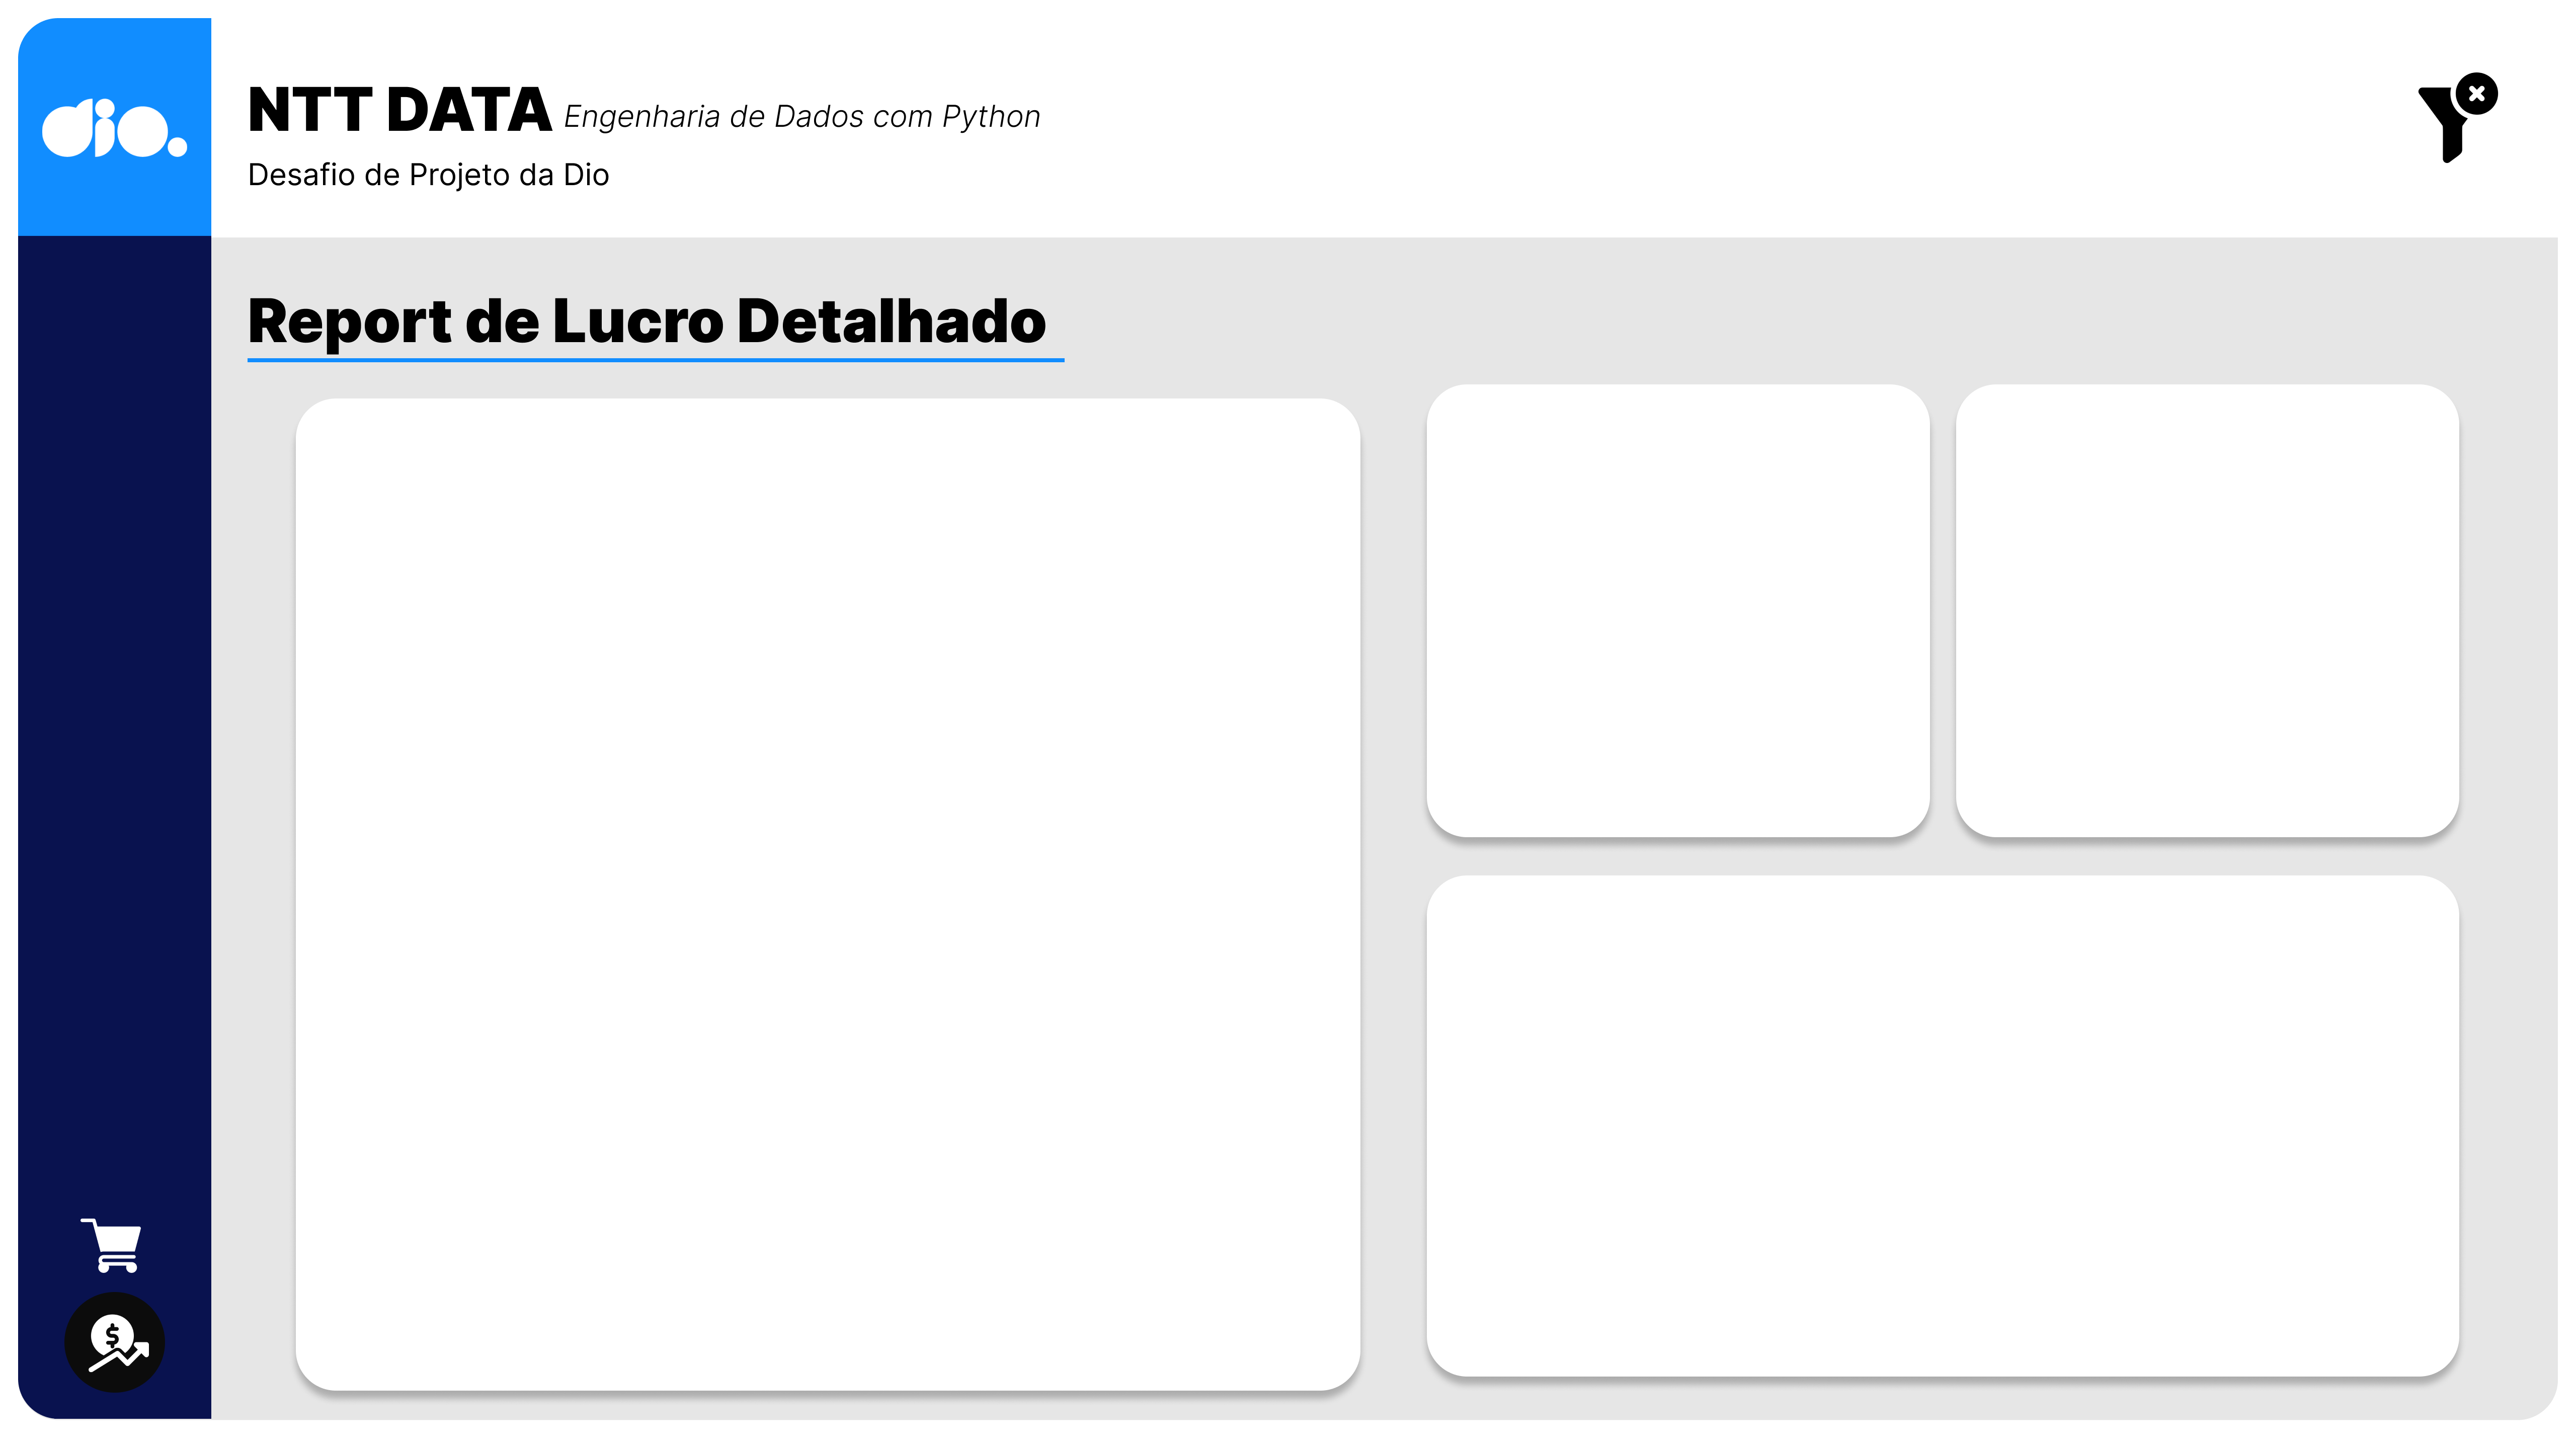

The dashboard page shown, as its layout file describes it:
{"tool":"powerbi","page":{"name":"Page 2","canvas":[1280,720],"ordinal":1},"visuals":[{"type":"image","box":[33.6,593.6,43.6,43.6],"z":0},{"type":"decompositionTreeVisual","fields":{"Analyze":["Sum(financials.Profit)"],"ExplainBy":["financials.Date.Variation.Date Hierarchy.Year","financials.Country"]},"box":[151.3,202.4,522.6,485.3],"z":1000},{"type":"areaChart","title":"Lucro x Produto","fields":{"Category":["financials.Product"],"Y":["Sum(financials.Profit)"]},"box":[710.9,193.6,248.2,219.1],"z":2000},{"type":"lineClusteredColumnComboChart","title":"Lucro x Países","fields":{"Category":["financials.Country"],"Y":["Sum(financials.Profit)"]},"box":[974.5,193.5,255.4,219.1],"z":3000},{"type":"waterfallChart","title":"Lucro x Trimestre","fields":{"Y":["Sum(financials.Profit)"],"Category":["financials.Date.Variation.Date Hierarchy.Quarter"]},"box":[710.9,439.1,510,240.9],"z":4000},{"type":"image","box":[33.4,549.1,44.2,44.2],"z":5000},{"type":"image","box":[1198.5,36.3,44.2,44.2],"z":6000}]}

Visuals, with their boxes on the page's 1280x720 design canvas (x1, y1, x2, y2). These are canvas units, not pixel positions in the 2576x1449 screenshot, which may show the page scaled, cropped or inside an application window:
image: 34,594,77,637
decompositionTreeVisual - Sum(financials.Profit) x financials.Date.Variation.Date Hierarchy.Year: 151,202,674,688
"Lucro x Produto" areaChart: 711,194,959,413
"Lucro x Países" lineClusteredColumnComboChart: 974,194,1230,413
"Lucro x Trimestre" waterfallChart: 711,439,1221,680
image: 33,549,78,593
image: 1198,36,1243,80
